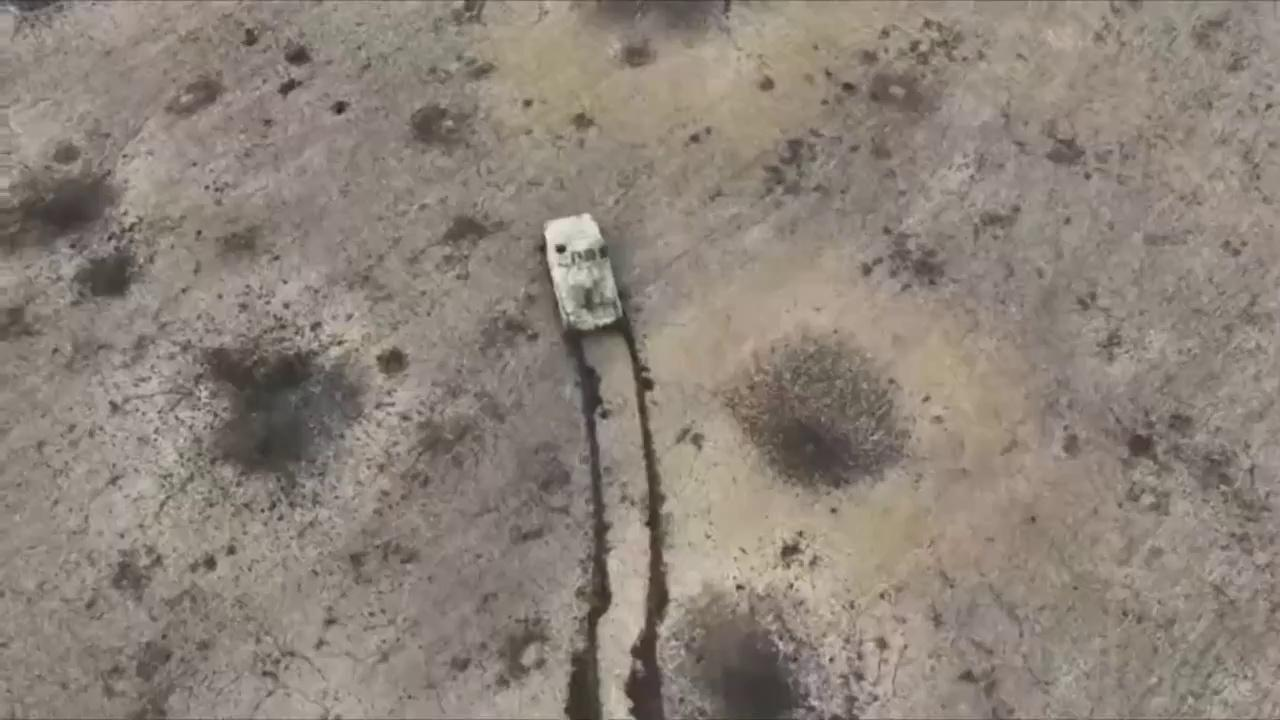vehicle: (538, 211, 628, 335)
